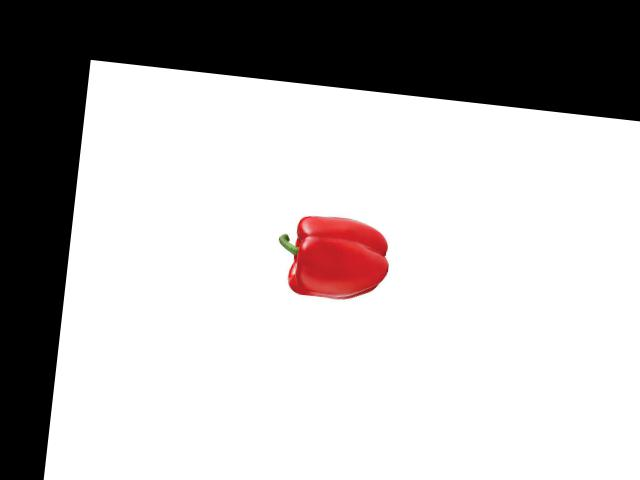bell_pepper: (272, 206, 397, 310)
